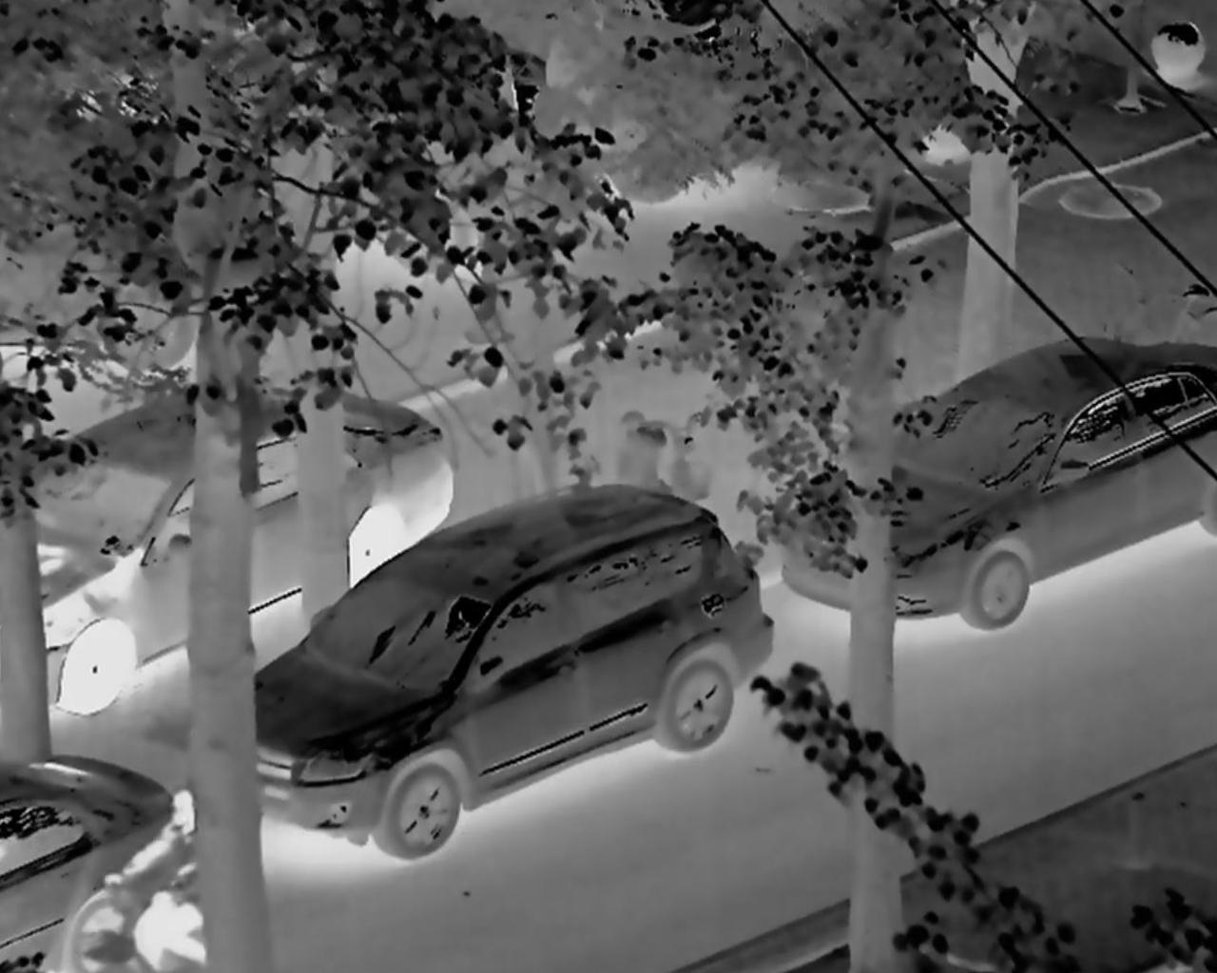person: (77, 775, 226, 963)
